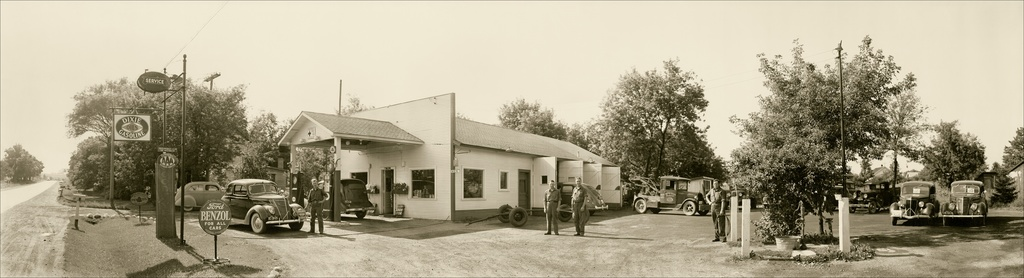Car: (220, 176, 305, 236), (630, 175, 714, 219), (888, 181, 940, 224), (320, 178, 374, 219), (943, 176, 990, 216), (174, 179, 219, 211)
